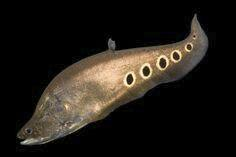Knifefish: (17, 14, 206, 146)
